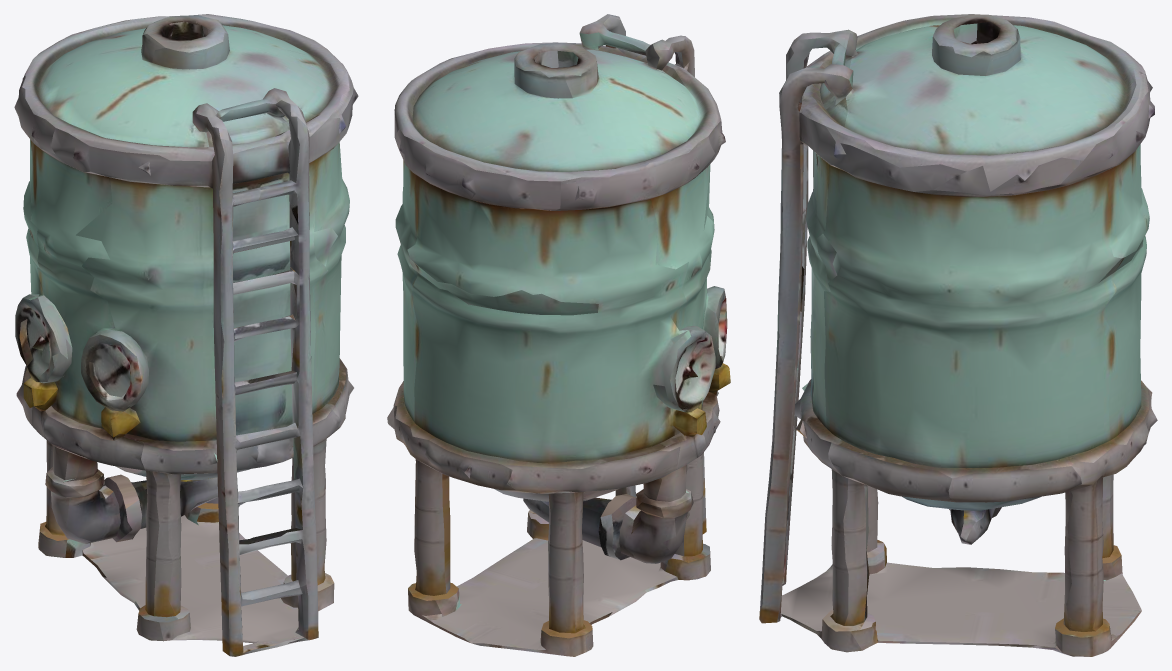
The model's file is water_tank.glb.
The picture shows the model from 3 angles, left to right: view 1: azimuth 30°, elevation 25°; view 2: azimuth 150°, elevation 25°; view 3: azimuth 270°, elevation 25°; orthographic projection. The views are drawn at different scales.
Visible parts, largest first — view 1: water_tank_s41; view 2: water_tank_s41; view 3: water_tank_s41.
Boxes of the visible parts, left/top/right/bottom form: water_tank_s41: left=14, top=14, right=358, bottom=656; water_tank_s41: left=387, top=14, right=730, bottom=656; water_tank_s41: left=759, top=14, right=1157, bottom=656.
Size of the model in its own units: 0.5791 by 1 by 0.6253.
1 material, 1 textured.
